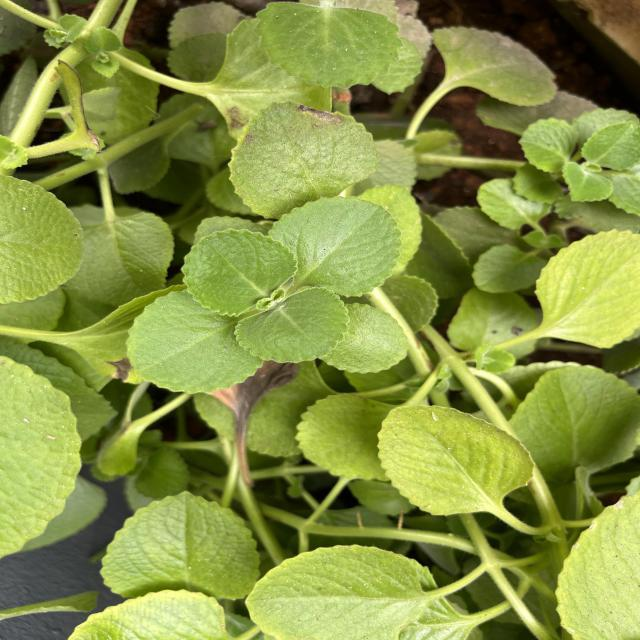Plectranthus barbatus: (228, 98, 382, 222), (370, 404, 536, 518), (242, 543, 437, 640), (96, 492, 260, 606), (509, 363, 640, 480), (124, 291, 265, 396), (268, 196, 404, 300), (252, 0, 403, 90), (534, 224, 640, 350), (179, 226, 299, 318), (233, 284, 349, 366), (317, 302, 410, 374), (516, 118, 578, 174), (579, 121, 640, 170), (561, 161, 614, 203)
